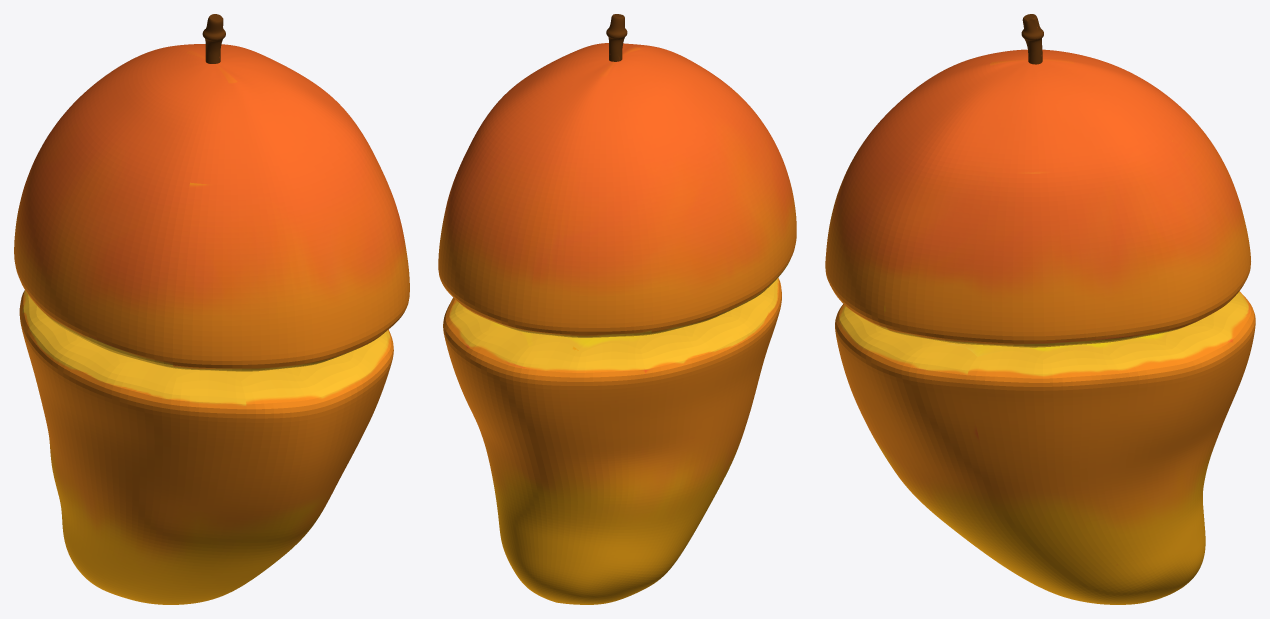
The model's file is MangoSliced.fbx.
3 renders of one model, left to right at view 1: azimuth 30°, elevation 25°; view 2: azimuth 150°, elevation 25°; view 3: azimuth 270°, elevation 25°, orthographic. The views are drawn at different scales.
Visible parts, largest first — view 1: Top, Bottom; view 2: Top, Bottom; view 3: Top, Bottom.
Boxes of the visible parts, x1,y1,x2,y2 form: Top: (14,14,409,371); Bottom: (19,290,393,604); Top: (438,14,796,337); Bottom: (443,277,781,604); Top: (825,14,1250,347); Bottom: (835,291,1255,604).
Bounding box in the file's own units: 193 × 349 × 233.
